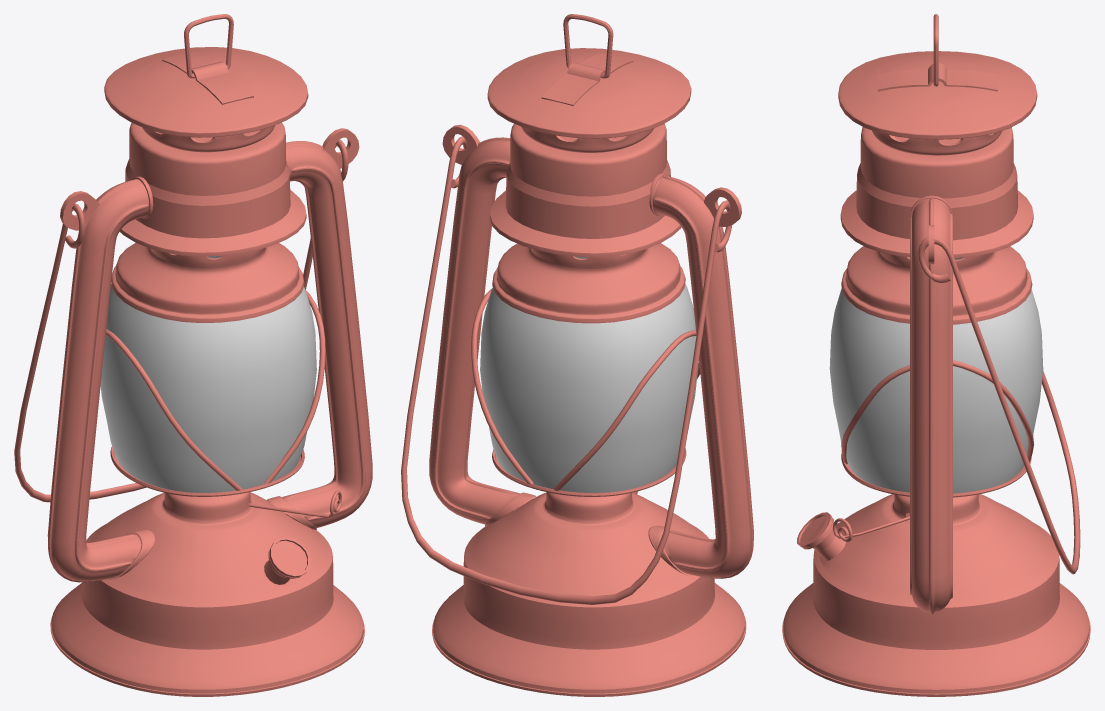
File: Lamp.fbx
3 views of the same model, side by side, from view 1: azimuth 30°, elevation 25°; view 2: azimuth 150°, elevation 25°; view 3: azimuth 270°, elevation 25° (orthographic).
Parts seen in each view (by area): view 1: Cube, Cube.004, Plane.002, Cube.005, Plane.001, Cube.007, Cube.003, Plane.005, Cube.008, Cube.006, Cube.009, Cube.010 (+4 smaller); view 2: Cube, Cube.004, Cube.005, Plane.002, Plane.001, Cube.007, Cube.003, Plane.005, Cube.008, Cube.006, Cube.009, Cube.010 (+3 smaller); view 3: Cube, Cube.004, Plane.001, Cube.005, Cube.007, Cube.003, Plane.005, Cube.008, Cube.006, Cube.010, Plane.006.
Boxes of the visible parts, x1=… form: Cube: x1=50, y1=446, x2=364, y2=696; Cube.004: x1=100, y1=255, x2=316, y2=492; Plane.002: x1=47, y1=176, x2=154, y2=582; Cube.005: x1=119, y1=122, x2=306, y2=256; Plane.001: x1=267, y1=141, x2=372, y2=529; Cube.007: x1=104, y1=47, x2=308, y2=137; Cube.003: x1=111, y1=242, x2=304, y2=322; Plane.005: x1=14, y1=139, x2=348, y2=502; Cube.008: x1=162, y1=52, x2=253, y2=104; Cube.006: x1=142, y1=125, x2=274, y2=152; Cube.009: x1=105, y1=329, x2=241, y2=490; Cube.010: x1=264, y1=289, x2=325, y2=483; Cube: x1=432, y1=448, x2=746, y2=696; Cube.004: x1=480, y1=256, x2=698, y2=492; Cube.005: x1=489, y1=123, x2=681, y2=257; Plane.002: x1=648, y1=173, x2=753, y2=578; Plane.001: x1=429, y1=137, x2=536, y2=526; Cube.007: x1=487, y1=48, x2=691, y2=138; Cube.003: x1=492, y1=243, x2=685, y2=323; Plane.005: x1=401, y1=136, x2=732, y2=604; Cube.008: x1=541, y1=53, x2=633, y2=105; Cube.006: x1=521, y1=126, x2=653, y2=152; Cube.009: x1=553, y1=330, x2=700, y2=490; Cube.010: x1=471, y1=289, x2=533, y2=484; Cube: x1=782, y1=454, x2=1090, y2=696; Cube.004: x1=829, y1=257, x2=1043, y2=493; Plane.001: x1=910, y1=195, x2=952, y2=614; Cube.005: x1=840, y1=127, x2=1033, y2=258; Cube.007: x1=838, y1=51, x2=1037, y2=139; Cube.003: x1=841, y1=246, x2=1032, y2=324; Plane.005: x1=918, y1=236, x2=1080, y2=574; Cube.008: x1=877, y1=63, x2=997, y2=91; Cube.006: x1=872, y1=130, x2=1002, y2=155; Cube.010: x1=841, y1=360, x2=1034, y2=464; Plane.006: x1=833, y1=516, x2=909, y2=541.
Size of the model in its own units: 260 by 471 by 215.
